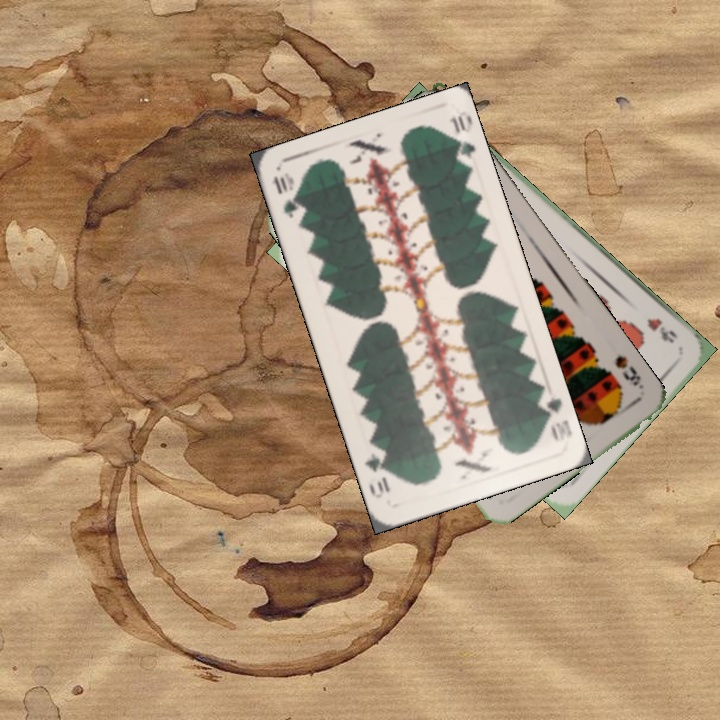G10: (536, 392, 574, 443), (269, 168, 304, 221)
H9: (643, 314, 680, 346)
S8: (610, 351, 647, 392)
